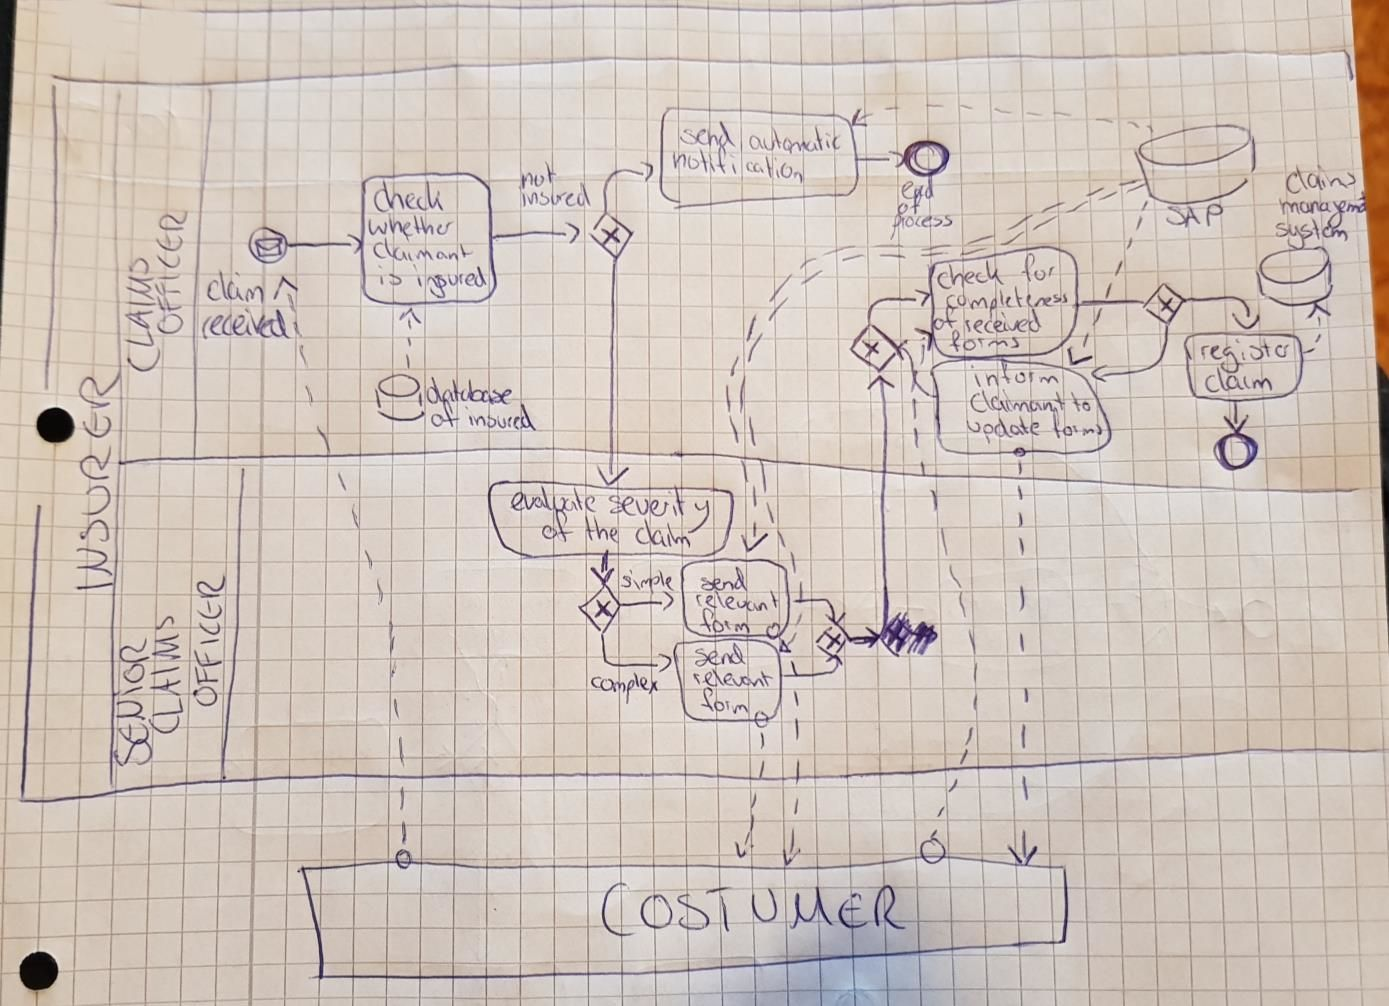CLAIMS: (120, 252, 159, 378), (148, 614, 185, 738)
COSTUMER: (601, 883, 908, 936)
Claimant: (969, 392, 1065, 417)
INSURER: (71, 374, 120, 591)
Inform: (973, 369, 1062, 389)
OFFICER: (188, 570, 226, 704), (151, 207, 190, 330)
SAP: (1166, 199, 1222, 229)
SENIOR: (110, 635, 153, 768)
automatic: (749, 126, 845, 155)
check: (370, 183, 448, 215), (939, 263, 1008, 290)
claim: (202, 273, 269, 303), (1204, 369, 1273, 394), (631, 521, 696, 547)
claimant: (370, 238, 473, 264)
claims: (1282, 166, 1359, 190)
completeness: (948, 290, 1069, 312)
complex: (589, 671, 660, 695)
database: (418, 376, 515, 406)
end: (902, 181, 936, 201)
evaluate: (509, 488, 599, 513)
for: (1018, 254, 1055, 285)
form: (700, 690, 752, 718), (699, 610, 751, 634)
forms: (949, 331, 1023, 350), (1050, 419, 1105, 441)
insured: (409, 265, 490, 297), (519, 183, 597, 211), (465, 408, 536, 431)
is: (374, 267, 405, 289)
management: (1280, 197, 1367, 218)
not: (521, 164, 551, 192)
notification: (673, 148, 807, 187)
of: (542, 518, 573, 543), (428, 405, 455, 433), (894, 194, 922, 213), (931, 314, 955, 334)
process: (889, 209, 955, 234)
received: (197, 309, 288, 344), (964, 313, 1042, 334)
register: (1201, 341, 1292, 360)
relevant: (690, 591, 783, 614), (693, 670, 776, 690)
send: (683, 122, 735, 149), (698, 568, 748, 595), (694, 645, 746, 667)
severity: (606, 491, 711, 522)
simple: (617, 568, 677, 595)
system: (1275, 218, 1352, 243)
the: (581, 519, 620, 543)
to: (1068, 394, 1094, 416)
update: (968, 417, 1044, 436)
whether: (370, 215, 454, 240)
